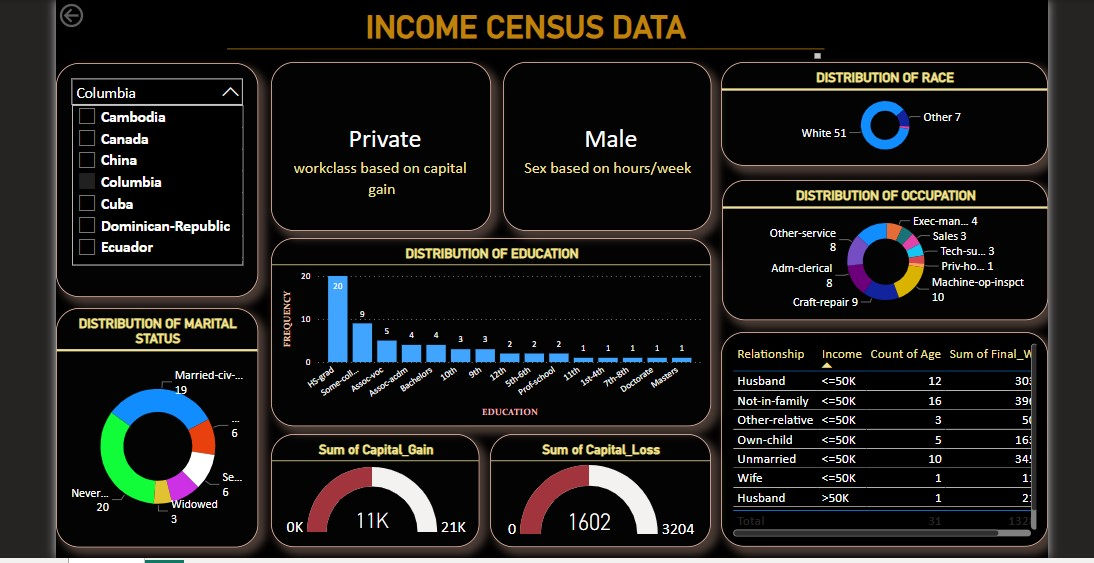

The dashboard page shown, as its layout file describes it:
{"tool":"powerbi","page":{"name":"Page 1","canvas":[1280,720],"ordinal":0},"visuals":[{"type":"slicer","title":"COUNTRY","fields":{"Values":["INCOME_DATA.Native_Country"]},"box":[0,80.8,260.8,301.9],"z":0},{"type":"donutChart","title":"DISTRIBUTION OF OCCUPATION","fields":{"Category":["INCOME_DATA.Occupation"],"Y":["CountNonNull(INCOME_DATA.Occupation)"]},"box":[858.9,232.4,420.9,181.4],"z":1000},{"type":"gauge","fields":{"Y":["Sum(INCOME_DATA.Capital_Gain)"]},"box":[277.8,559.8,269.3,146],"z":2000},{"type":"card","fields":{"Values":["Min(INCOME_DATA.Sex)"]},"box":[576.3,79.9,268.6,217.6],"z":3000},{"type":"gauge","fields":{"Y":["Sum(INCOME_DATA.Capital_Loss)"]},"box":[559.8,559.8,284.9,146],"z":4000},{"type":"textbox","title":"INCOME CENSUS DATA","box":[221.1,11.3,771,69.4],"z":5000},{"type":"columnChart","title":"DISTRIBUTION OF EDUCATION","fields":{"Category":["INCOME_DATA.Education"],"Y":["CountNonNull(INCOME_DATA.Education)"]},"box":[277.1,307.5,568.5,243.1],"z":6000},{"type":"tableEx","fields":{"Values":["INCOME_DATA.Relationship","INCOME_DATA.Income","Count(INCOME_DATA.Age)","Sum(INCOME_DATA.Final_Weight)"]},"box":[858.4,428.4,421.6,277.1],"z":7000},{"type":"card","fields":{"Values":["Min(INCOME_DATA.Workclass)"]},"box":[277.1,80.4,284.2,218.1],"z":8000},{"type":"donutChart","title":"DISTRIBUTION OF MARITAL STATUS","fields":{"Category":["INCOME_DATA.Marital_Status"],"Series":["INCOME_DATA.Marital_Status"],"Y":["CountNonNull(INCOME_DATA.Marital_Status)"]},"box":[0,396.9,260.8,309],"z":9000},{"type":"actionButton","box":[0,0,100,40],"z":10000},{"type":"donutChart","title":"DISTRIBUTION OF RACE","fields":{"Y":["CountNonNull(INCOME_DATA.Race)"],"Category":["INCOME_DATA.Race"]},"box":[858.4,79.9,421.6,134.3],"z":11000}]}

Visuals, with their boxes in screenshot pixels (x1, y1, x2, y2):
"COUNTRY" slicer: BBox(54, 74, 256, 307)
"DISTRIBUTION OF OCCUPATION" donutChart: BBox(718, 191, 1043, 331)
gauge - Sum(INCOME_DATA.Capital_Gain): BBox(269, 444, 477, 557)
card - Min(INCOME_DATA.Sex): BBox(499, 73, 707, 241)
gauge - Sum(INCOME_DATA.Capital_Loss): BBox(487, 444, 707, 557)
"INCOME CENSUS DATA" textbox: BBox(225, 20, 821, 74)
"DISTRIBUTION OF EDUCATION" columnChart: BBox(268, 249, 707, 437)
tableEx - INCOME_DATA.Relationship x INCOME_DATA.Income: BBox(717, 342, 1043, 556)
card - Min(INCOME_DATA.Workclass): BBox(268, 74, 488, 242)
"DISTRIBUTION OF MARITAL STATUS" donutChart: BBox(54, 318, 256, 557)
actionButton: BBox(54, 11, 131, 42)
"DISTRIBUTION OF RACE" donutChart: BBox(717, 73, 1043, 177)
